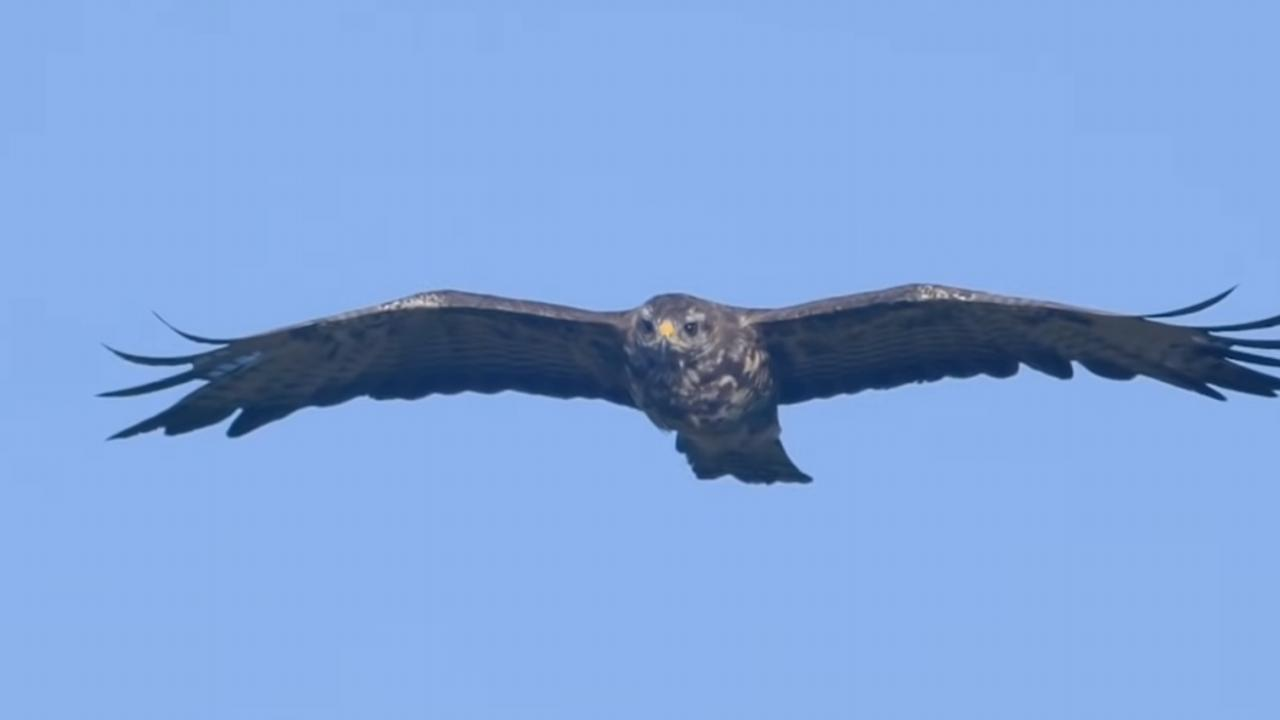Bird: (86, 277, 1280, 492)
